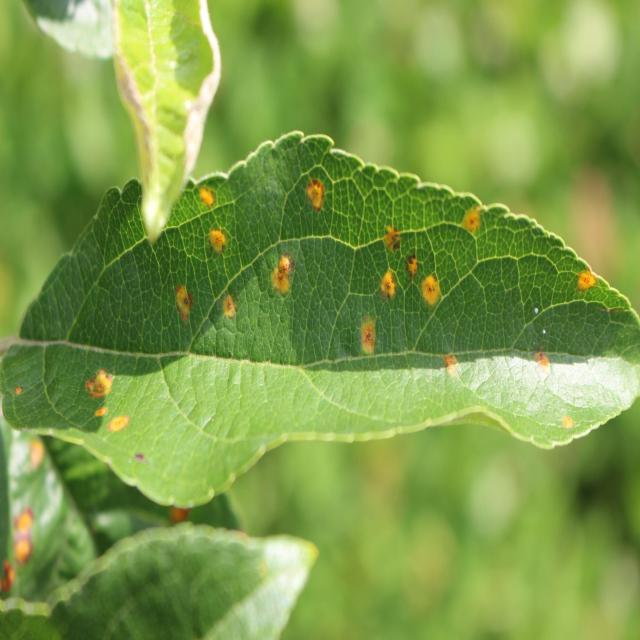Rust: (72, 353, 126, 408), (255, 242, 299, 302), (8, 500, 50, 562), (163, 275, 197, 339), (351, 314, 390, 363), (456, 194, 490, 245), (10, 438, 50, 478), (436, 341, 468, 390), (294, 174, 329, 215), (197, 219, 231, 260), (105, 405, 143, 440), (0, 547, 25, 600), (372, 263, 403, 304), (423, 269, 446, 324), (567, 263, 602, 298), (216, 295, 248, 324), (405, 234, 422, 288), (530, 338, 552, 378), (193, 177, 219, 210), (380, 221, 406, 254), (554, 410, 580, 436), (14, 372, 28, 407), (89, 401, 106, 426)
